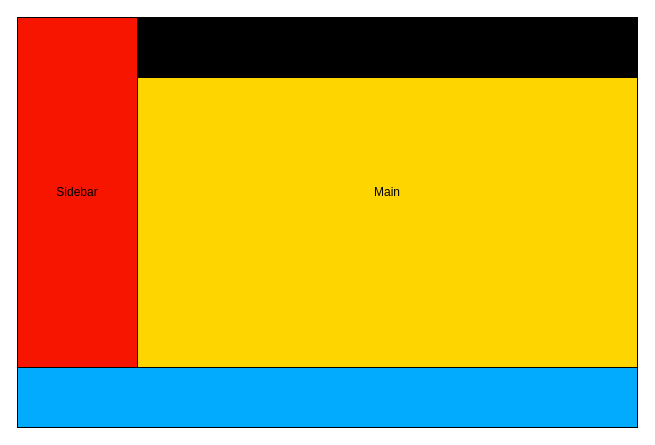
Some shapes in this 655 by 445 pixel diagram are drawn without their labels. The shapes that lost their labels are listed below. From the top down, each one's box as (x1, y1, x2, y2) in pixels, then its label:
(136, 16, 638, 78): Topbar
(16, 366, 638, 428): Footer
